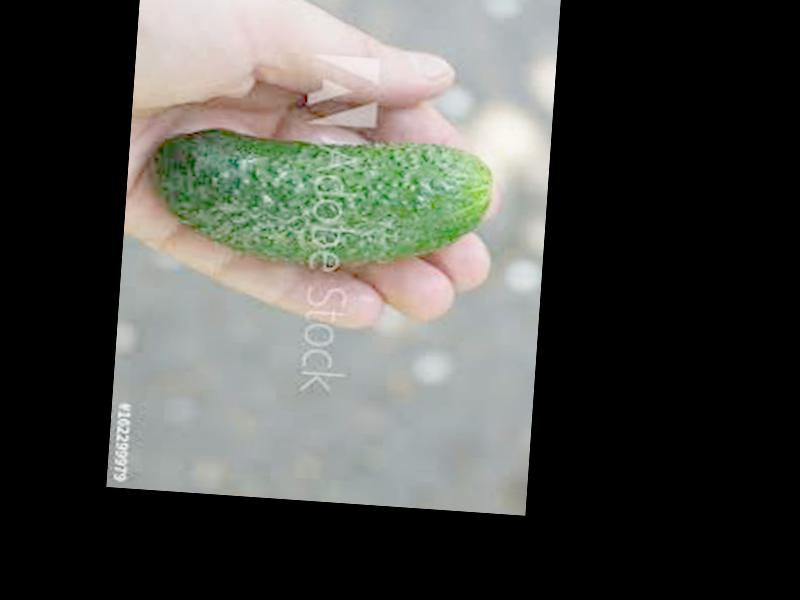Cucumber: (147, 125, 492, 278)
